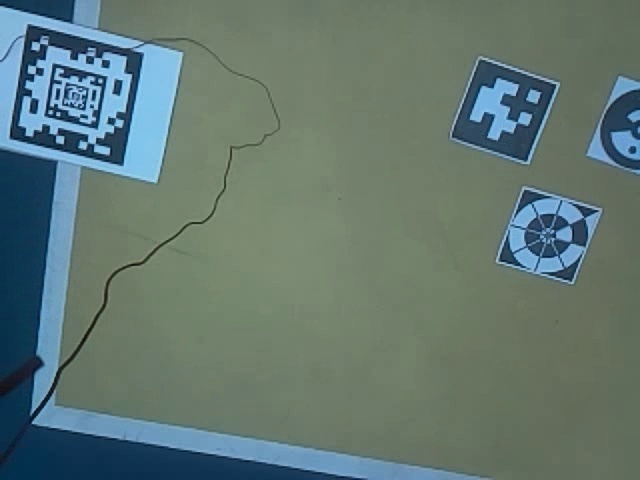landing-zone: (492, 184, 604, 288)
